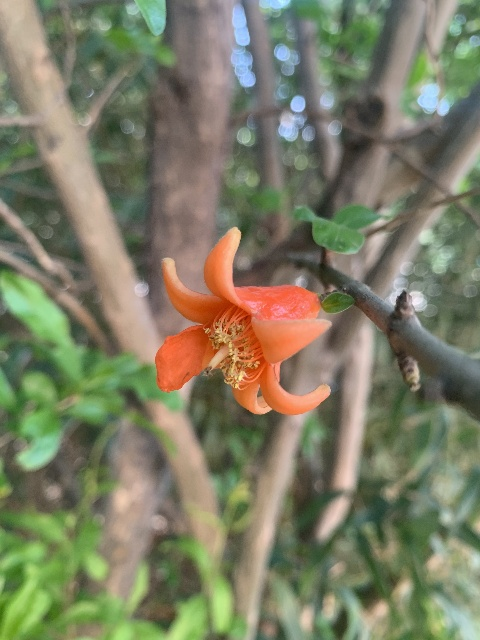flower: (154, 227, 330, 417)
